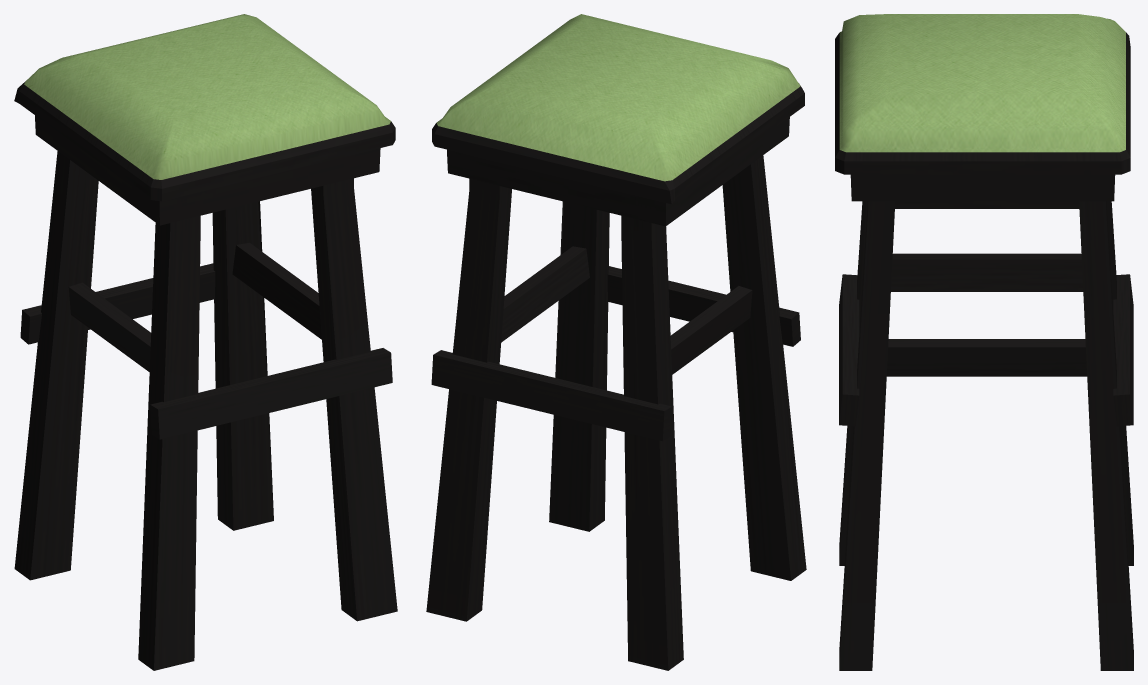
File: Barstool_E.FBX
The picture shows the model from 3 angles, left to right: view 1: azimuth 30°, elevation 25°; view 2: azimuth 150°, elevation 25°; view 3: azimuth 270°, elevation 25°; orthographic projection. The views are drawn at different scales.
Parts seen in each view (by area): view 1: Bar_Stool; view 2: Bar_Stool; view 3: Bar_Stool.
Part boxes in pixels (<box>): Bar_Stool: <box>14,14,397,670</box>; Bar_Stool: <box>426,14,806,670</box>; Bar_Stool: <box>835,14,1133,670</box>.
Size of the model in its own units: 85.32 by 174 by 84.9.
